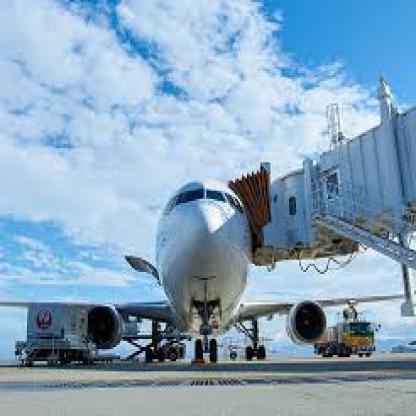boarding bridge: (198, 160, 274, 276)
